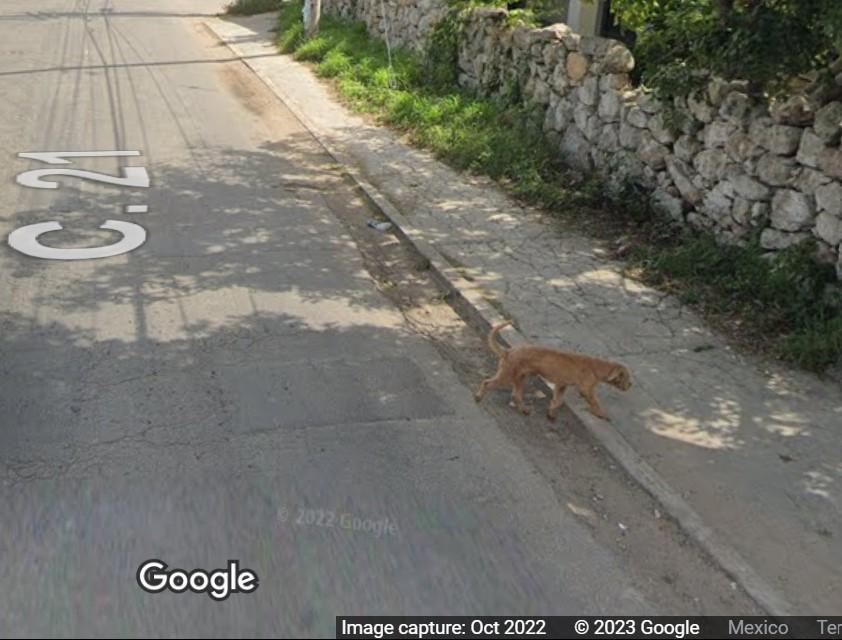normal_dogs: (466, 310, 648, 434)
